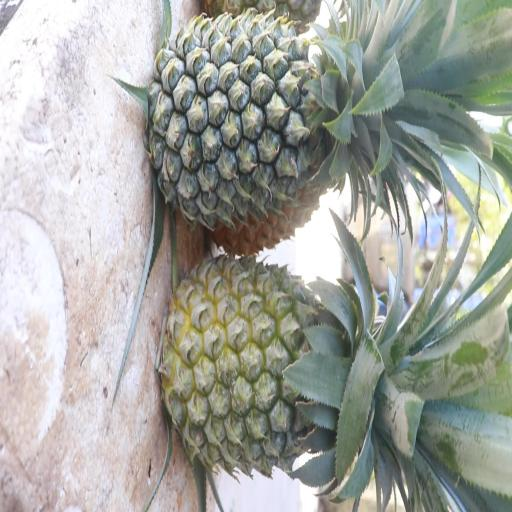------------------------------: (160, 254, 438, 466)
